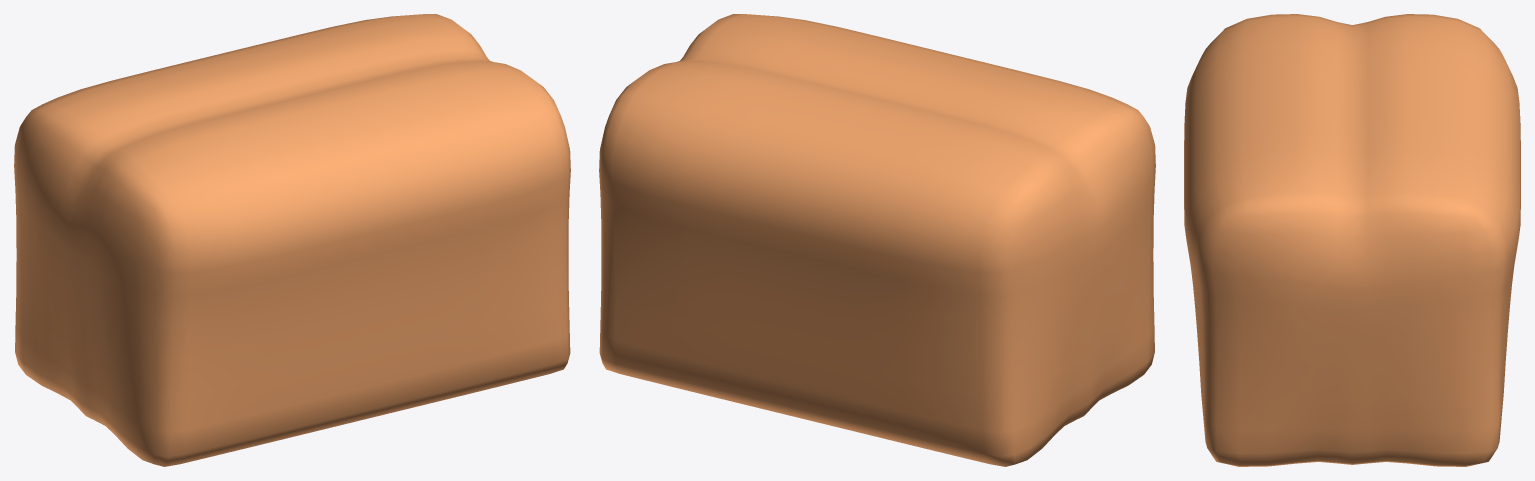
File: Bread_01.fbx
3 views of the same model, side by side, from view 1: azimuth 30°, elevation 25°; view 2: azimuth 150°, elevation 25°; view 3: azimuth 270°, elevation 25° (orthographic). The views are drawn at different scales.
Parts seen in each view (by area): view 1: Bread_01_LOD0; view 2: Bread_01_LOD0; view 3: Bread_01_LOD0.
Boxes of the visible parts, box(x1,y1,x2,y2) form: Bread_01_LOD0: box(14, 14, 570, 466); Bread_01_LOD0: box(599, 14, 1155, 466); Bread_01_LOD0: box(1184, 14, 1520, 466).
Size of what is drawn, in the model's own units: 752 by 461 by 508.
